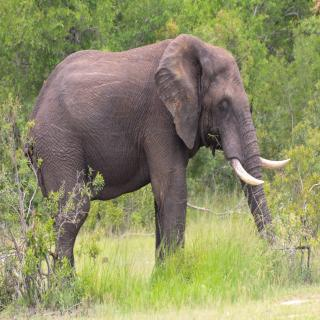Elephant: (20, 31, 297, 285)
